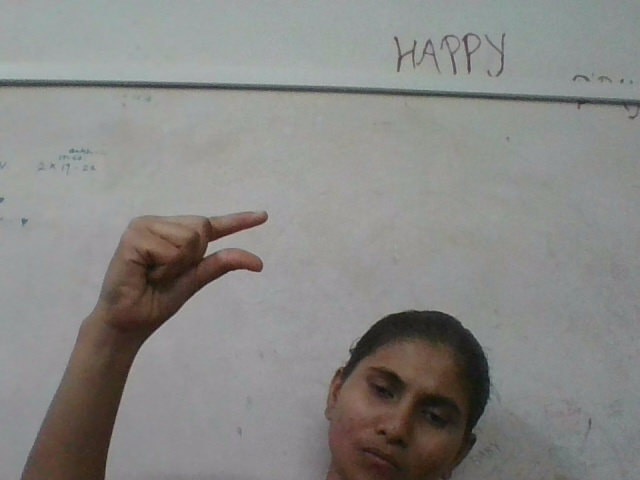No: (93, 205, 273, 334)
